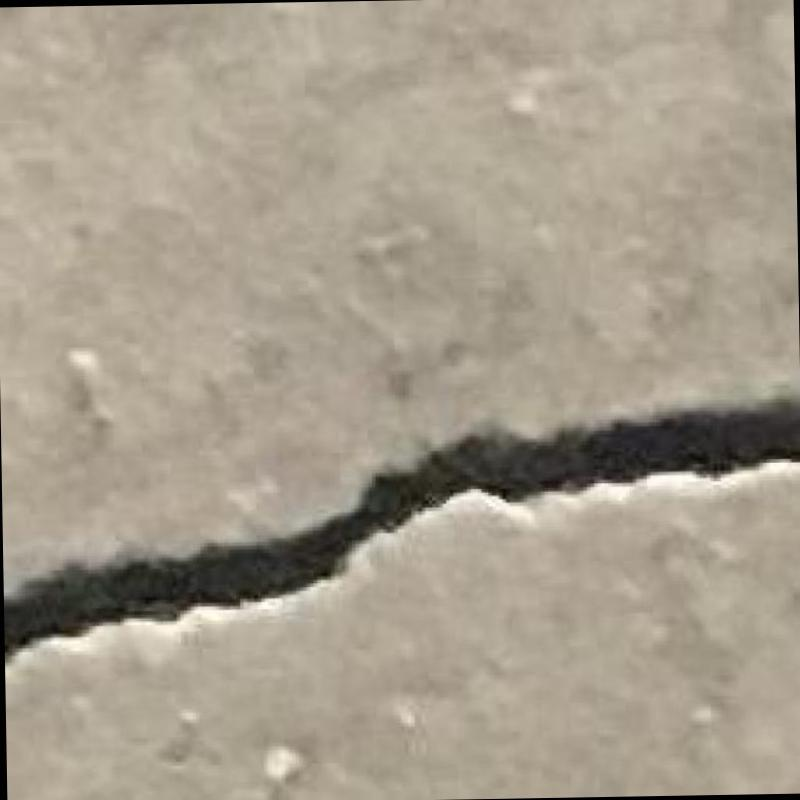crack: (3, 397, 800, 659)
